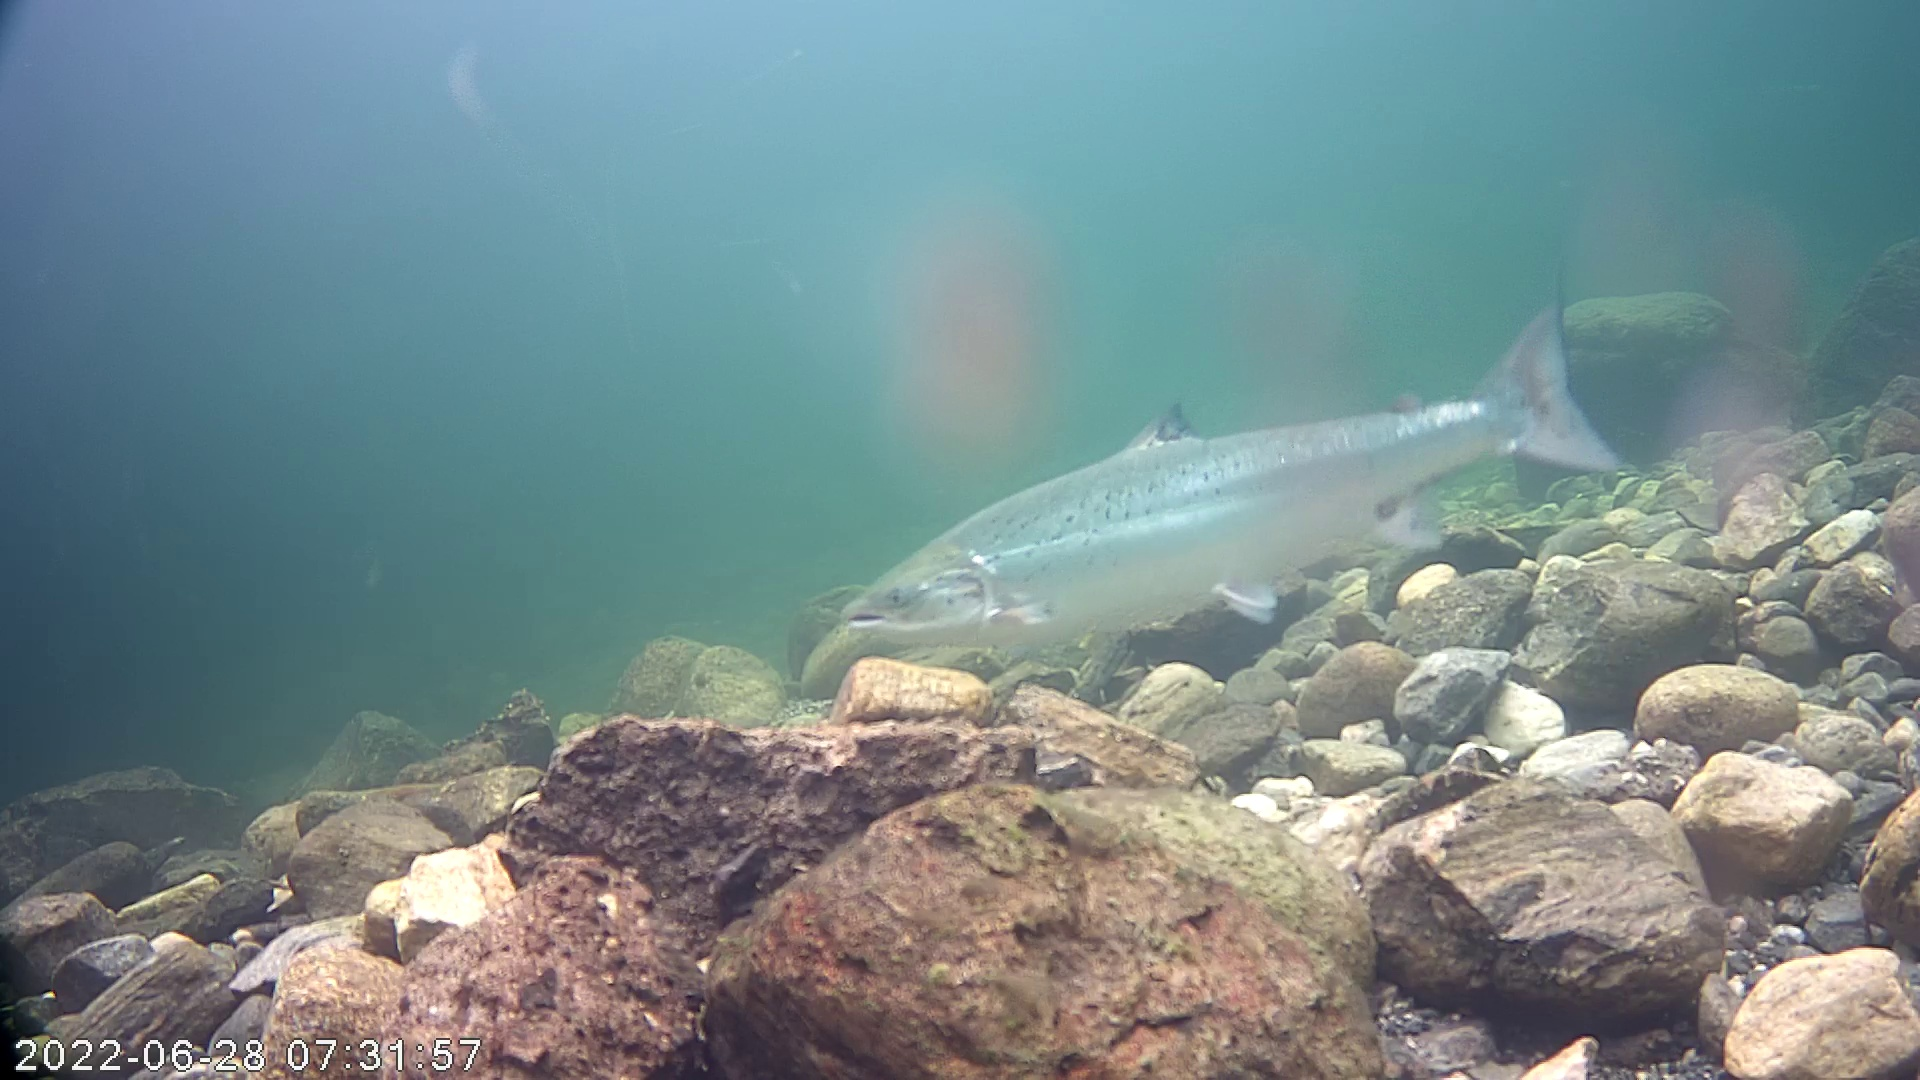salmon: (843, 214, 1640, 676)
